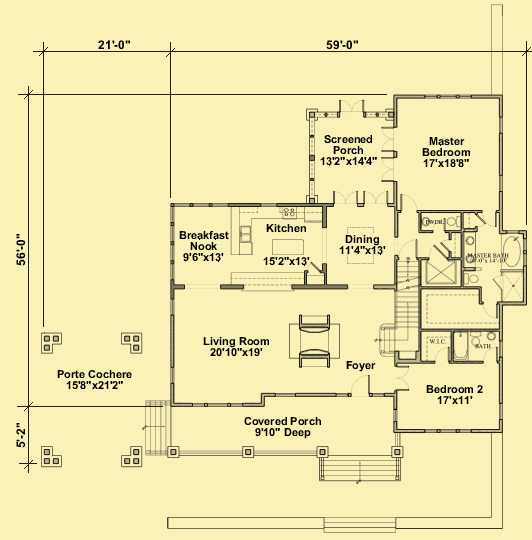bathroom has a tub and shower space, small and large sinks: (461, 227, 525, 305)
kitchen has a cooking range, twin sinks and kitchen counter: (224, 201, 328, 288)
small bathroom has a tub space, small and large sink with walk in closet: (420, 330, 502, 367)
this bathroom has small and large sink: (419, 208, 463, 232)
